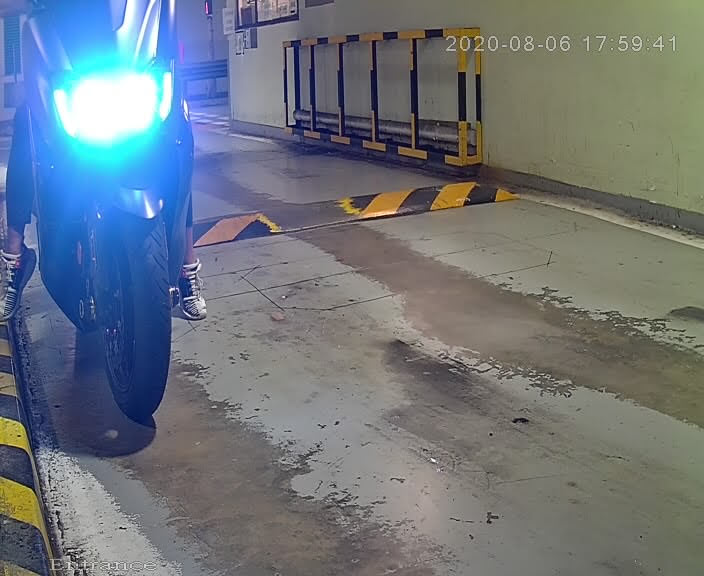motorcycle: (5, 1, 227, 422)
